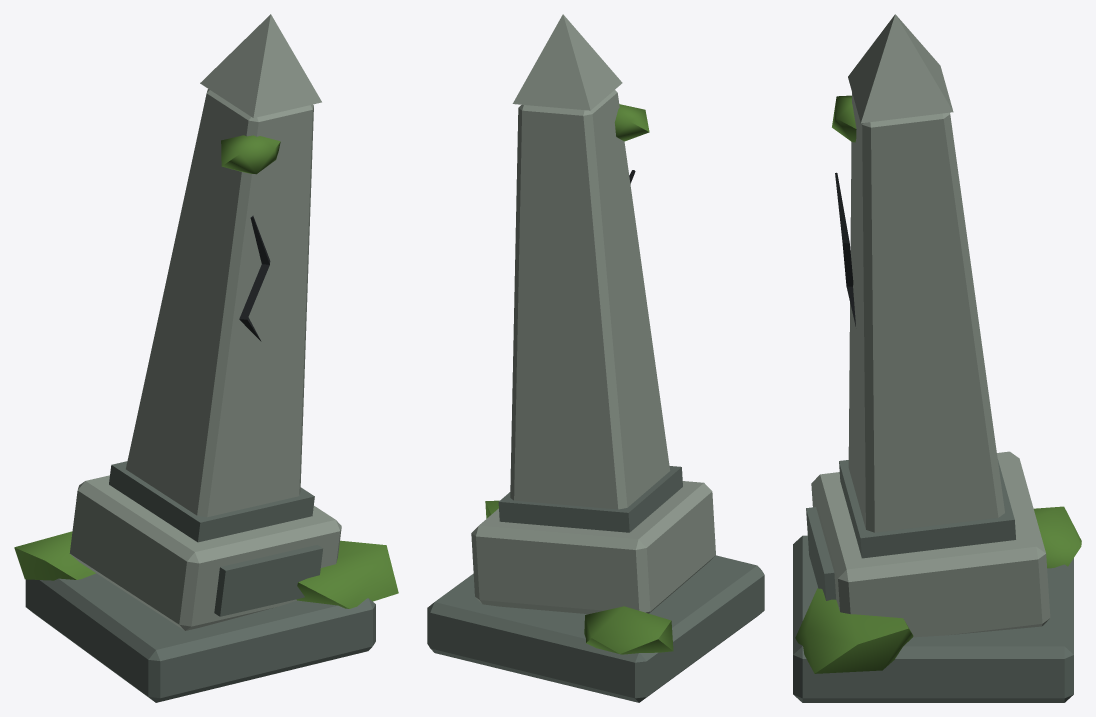
File: tombstone_c.glb
3 views of the same model, side by side, from view 1: azimuth 30°, elevation 25°; view 2: azimuth 150°, elevation 25°; view 3: azimuth 270°, elevation 25° (orthographic). The views are drawn at different scales.
Visible parts, largest first — view 1: tombstone_c; view 2: tombstone_c; view 3: tombstone_c.
Boxes of the visible parts, x1,y1,x2,y2 form: tombstone_c: (14,14,398,702); tombstone_c: (427,14,764,702); tombstone_c: (793,14,1081,702).
Bounding box in the file's own units: 0.4404 × 0.9346 × 0.3701.
